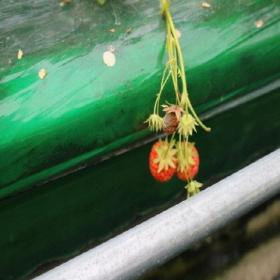Gray Mold: (160, 101, 184, 133)
